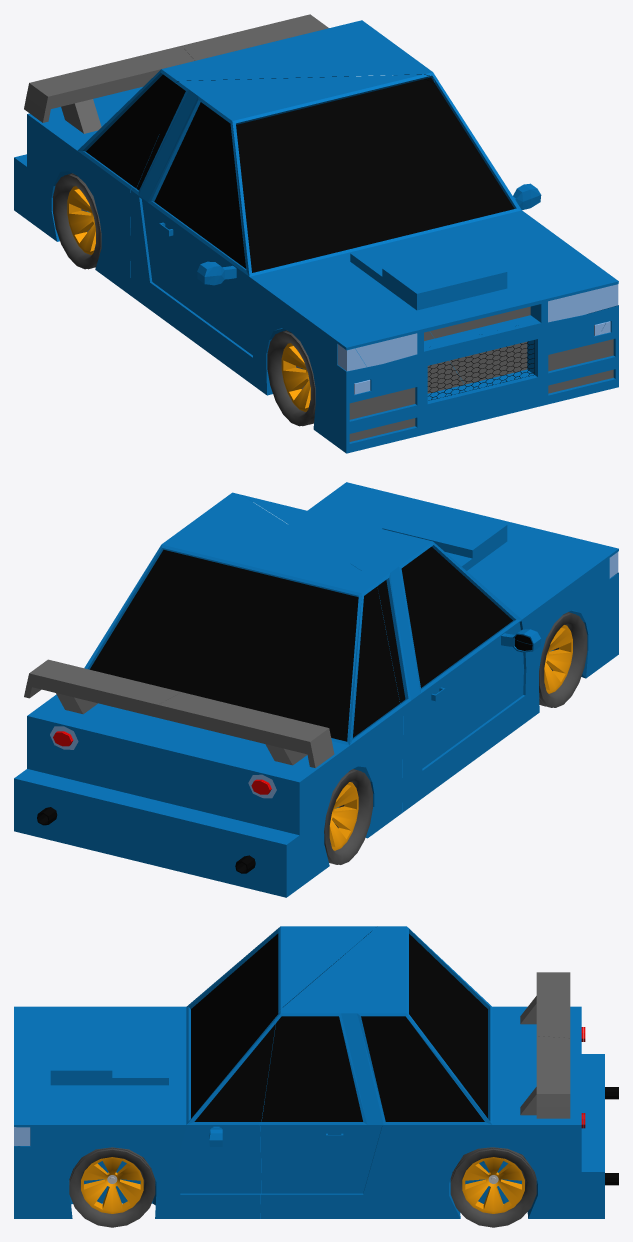
File: car_01_destroy.fbx
3 renders of one model, top to bottom at view 1: azimuth 30°, elevation 25°; view 2: azimuth 150°, elevation 25°; view 3: azimuth 270°, elevation 25°, orthographic. The views are drawn at different scales.
Visible parts, largest first — view 1: Chasis_cell, Chasis_cell.001, Aleron_cell.001, Aleron_cell, Wheel003, Wheel004, Detras_Rejillas_cell, Faros_cell.001, Ring03, Ring04, Faros_cell.002, Rejillas.001 (+4 smaller); view 2: Chasis_cell.001, Chasis_cell, Aleron_cell.001, Aleron_cell, Wheel003, Wheel004, Ring04, Ring03; view 3: Chasis_cell.001, Chasis_cell, Aleron_cell, Wheel, Wheel2, Aleron_cell.001, Ring01, Ring02.
Part boxes in pixels (x1,y1,x2,y2): Chasis_cell: (130,74,618,453); Chasis_cell.001: (14,20,438,294); Aleron_cell.001: (24,46,194,133); Aleron_cell: (182,14,328,60); Wheel003: (267,330,315,426); Wheel004: (53,173,101,269); Detras_Rejillas_cell: (449,341,527,384); Faros_cell.001: (548,284,618,322); Ring03: (281,343,310,411); Ring04: (67,186,95,254); Faros_cell.002: (355,333,417,367); Rejillas.001: (427,340,534,400); Chasis_cell.001: (14,492,403,897); Chasis_cell: (242,482,618,812); Aleron_cell.001: (158,692,334,767); Aleron_cell: (24,659,181,717); Wheel003: (539,612,587,707); Wheel004: (324,769,372,864); Ring04: (329,782,358,850); Ring03: (544,625,572,693); Chasis_cell.001: (259,926,604,1218); Chasis_cell: (14,926,377,1218); Aleron_cell: (520,1036,570,1118); Wheel: (450,1147,536,1227); Wheel2: (69,1147,155,1227); Aleron_cell.001: (520,972,570,1038); Ring01: (462,1157,524,1213); Ring02: (81,1157,143,1213).
Bounding box in the file's own units: 297 × 189 × 520.
